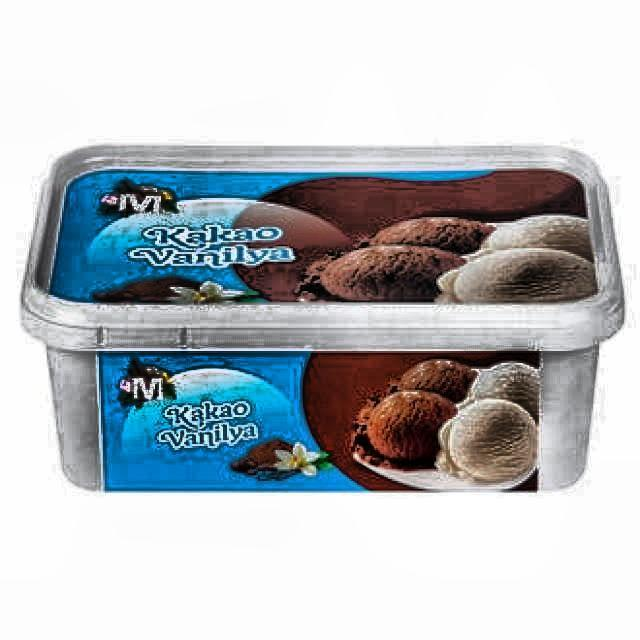plastic: (18, 142, 628, 512)
